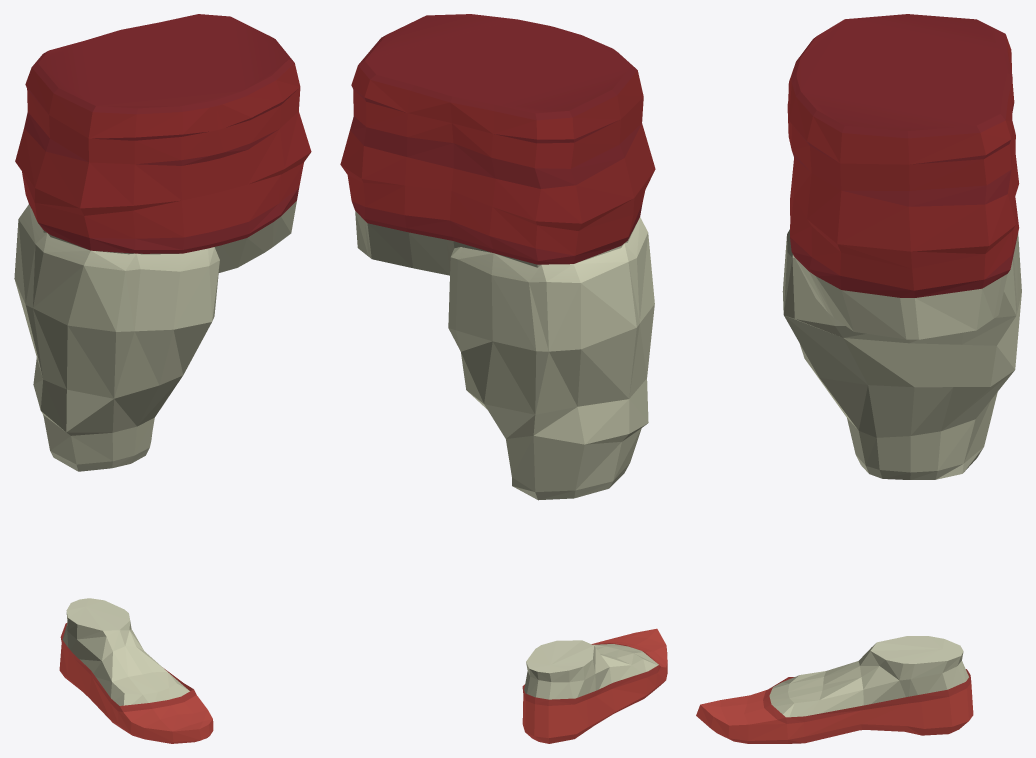
Rendered from desertMerchantAssistant.glb.
3 renders of one model, left to right at view 1: azimuth 30°, elevation 25°; view 2: azimuth 150°, elevation 25°; view 3: azimuth 270°, elevation 25°, orthographic. The views are drawn at different scales.
Parts seen in each view (by area): view 1: desertMerchantAssistantBody, desertMerchantAssistantLegs, desertMerchantAssistantShoes; view 2: desertMerchantAssistantBody, desertMerchantAssistantLegs, desertMerchantAssistantShoes; view 3: desertMerchantAssistantBody, desertMerchantAssistantLegs, desertMerchantAssistantShoes.
Part boxes in pixels (x1=…): desertMerchantAssistantBody: x1=15, y1=14, x2=311, y2=272; desertMerchantAssistantLegs: x1=14, y1=204, x2=219, y2=471; desertMerchantAssistantShoes: x1=59, y1=598, x2=213, y2=743; desertMerchantAssistantBody: x1=340, y1=14, x2=655, y2=275; desertMerchantAssistantLegs: x1=448, y1=217, x2=654, y2=500; desertMerchantAssistantShoes: x1=522, y1=628, x2=667, y2=743; desertMerchantAssistantBody: x1=787, y1=14, x2=1019, y2=339; desertMerchantAssistantLegs: x1=782, y1=229, x2=1021, y2=479; desertMerchantAssistantShoes: x1=696, y1=636, x2=973, y2=743.
Bounding box in the file's own units: 0.4829 × 1.07 × 0.4588.
